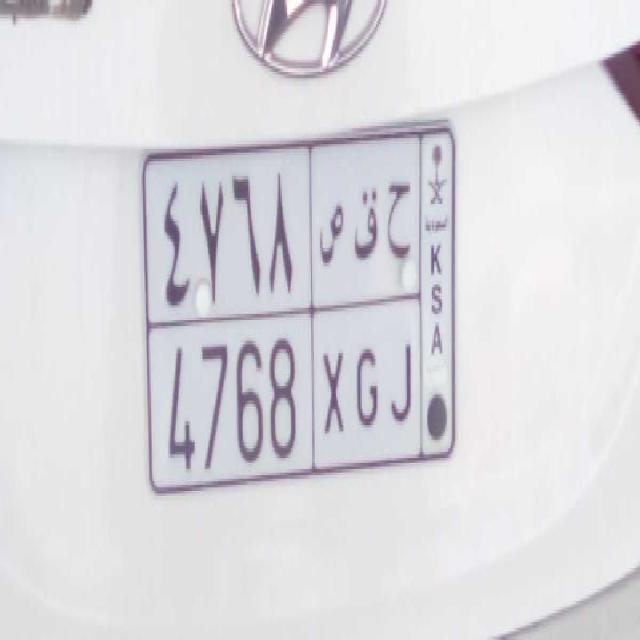license_plate: (153, 314, 427, 484)
